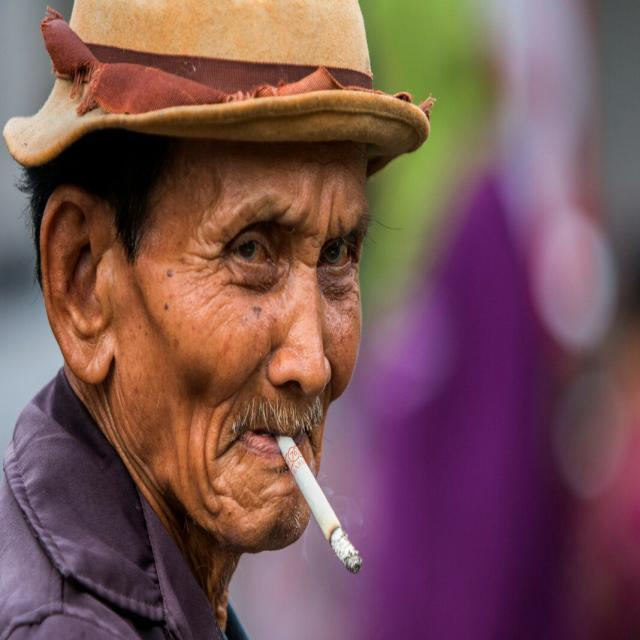rokok: (262, 421, 374, 575)
